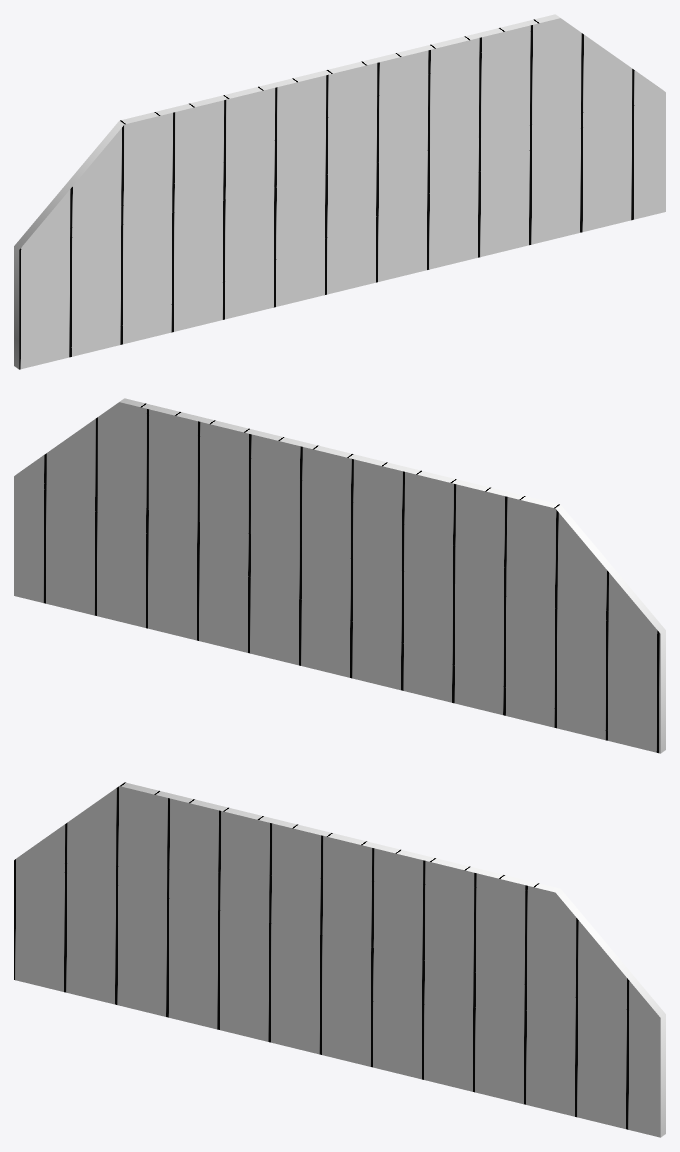
Rendered from InteriorWall02_Art.fbx.
3 renders of one model, top to bottom at view 1: azimuth 30°, elevation 25°; view 2: azimuth 150°, elevation 25°; view 3: azimuth 330°, elevation 25°, orthographic.
Visible parts, largest first — view 1: InteriorWall02_Art; view 2: InteriorWall02_Art; view 3: InteriorWall02_Art.
Boxes of the visible parts, x1=… form: InteriorWall02_Art: x1=14, y1=14, x2=665, y2=369; InteriorWall02_Art: x1=14, y1=398, x2=665, y2=753; InteriorWall02_Art: x1=14, y1=782, x2=665, y2=1137.
Size of the model in its own units: 10.7 by 3.47 by 0.15.
